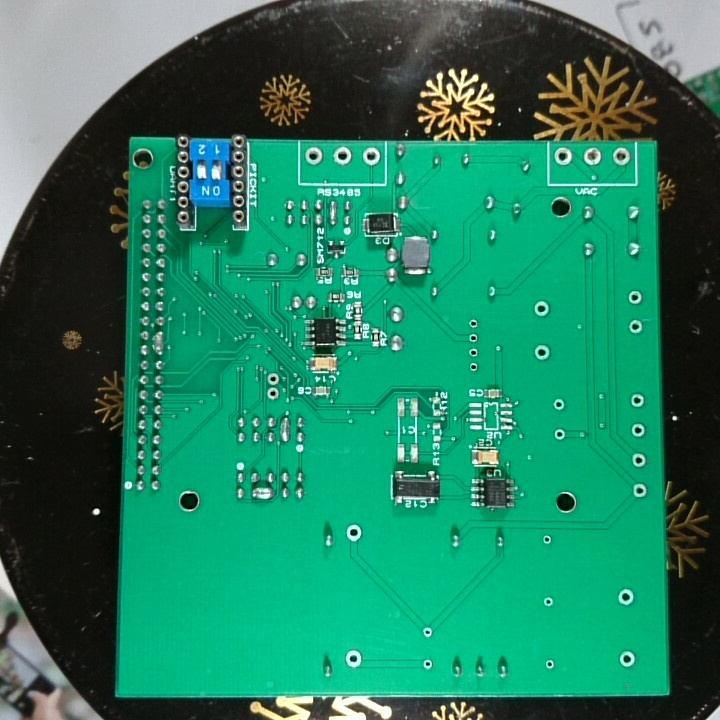F: (360, 145, 382, 169), (331, 144, 353, 166), (303, 144, 324, 167), (611, 145, 632, 167), (553, 146, 573, 169), (582, 146, 603, 166), (618, 648, 637, 669), (617, 586, 635, 608), (532, 298, 551, 318), (343, 649, 362, 669), (630, 479, 648, 500), (626, 287, 645, 306), (533, 343, 552, 362), (345, 523, 363, 543), (630, 450, 647, 471), (630, 421, 647, 441), (629, 390, 646, 409), (420, 656, 437, 674), (540, 594, 557, 611), (539, 532, 555, 549), (265, 386, 281, 403), (419, 625, 436, 641), (551, 396, 567, 412), (552, 426, 567, 443), (628, 317, 642, 335), (543, 655, 557, 673), (265, 369, 279, 386), (466, 316, 481, 331), (466, 331, 481, 346), (467, 346, 481, 359), (468, 359, 479, 373)
P: (249, 483, 275, 504), (151, 329, 165, 356), (279, 415, 292, 444), (326, 199, 339, 226)
